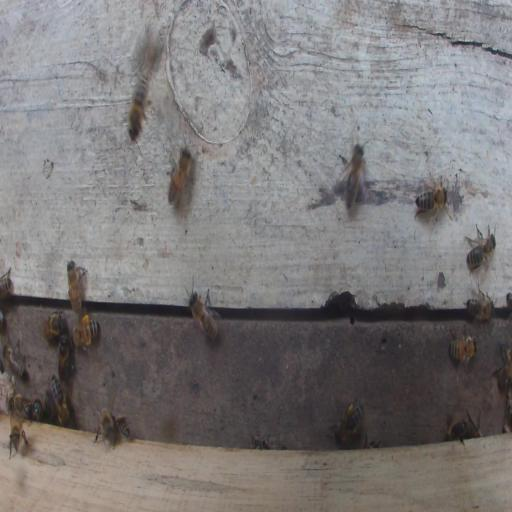bee: (185, 284, 221, 347), (414, 173, 450, 222), (128, 71, 153, 141), (167, 144, 194, 207), (448, 334, 478, 379), (346, 142, 364, 213), (66, 258, 86, 314), (335, 403, 363, 443), (466, 233, 496, 268), (51, 374, 70, 427), (71, 316, 100, 347), (9, 417, 29, 460), (465, 291, 493, 320), (58, 333, 75, 379), (41, 311, 66, 342), (495, 345, 511, 392), (3, 345, 26, 377), (100, 411, 115, 445), (0, 266, 14, 299), (11, 394, 31, 417), (447, 420, 466, 440), (250, 432, 270, 449), (464, 420, 481, 440), (116, 416, 130, 439), (34, 397, 43, 419), (507, 292, 512, 313)
